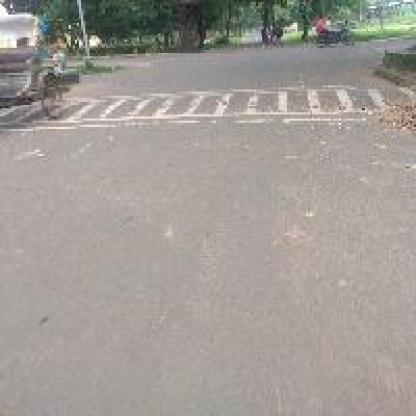Speed Bump: (68, 83, 402, 129)
